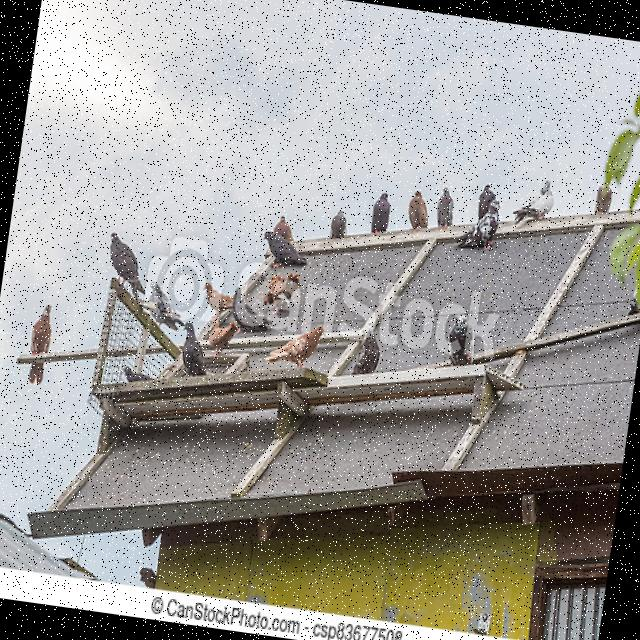bird: (102, 232, 154, 300), (264, 317, 326, 373), (24, 303, 56, 387), (457, 195, 502, 253), (511, 176, 557, 230), (143, 280, 189, 332), (175, 320, 214, 380), (259, 230, 311, 274), (228, 286, 274, 334), (206, 315, 242, 361), (262, 272, 299, 314), (200, 281, 237, 317), (154, 347, 188, 386), (404, 188, 432, 232), (369, 190, 393, 237), (434, 186, 458, 230), (222, 349, 252, 384), (475, 182, 498, 222), (328, 208, 351, 242), (272, 214, 298, 243), (594, 181, 614, 217), (122, 364, 154, 386), (286, 270, 304, 288)
